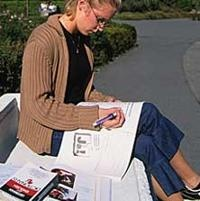person without safety: (35, 1, 130, 98)
